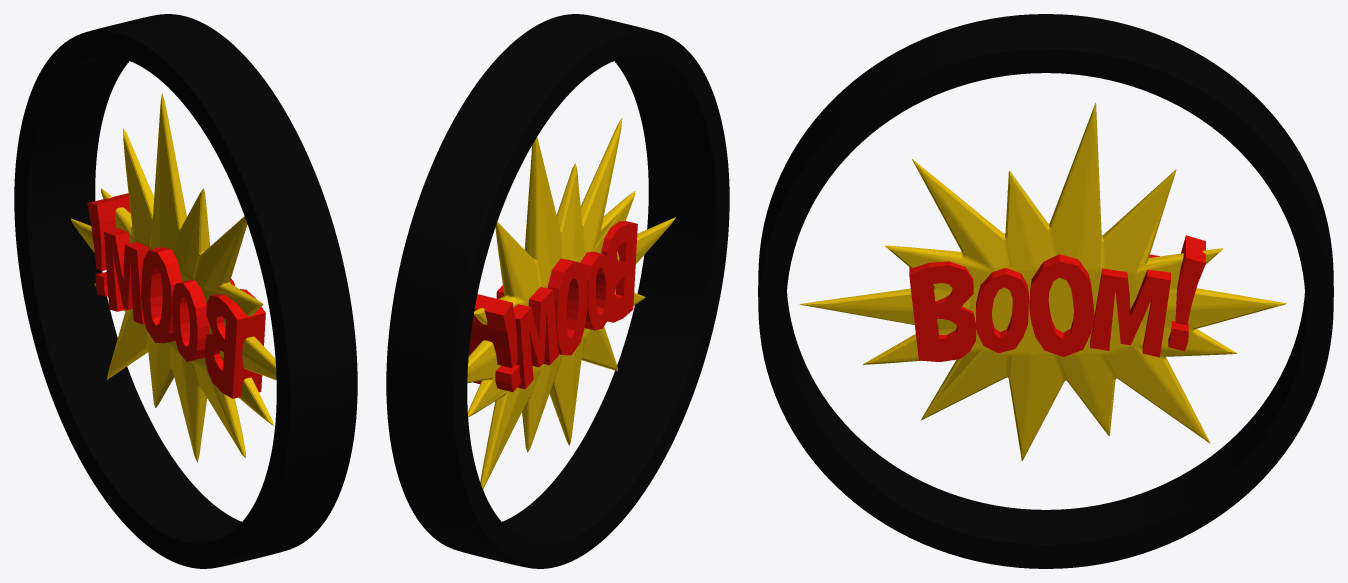
The model's file is _oom2.fbx.
3 views of the same model, side by side, from view 1: azimuth 30°, elevation 25°; view 2: azimuth 150°, elevation 25°; view 3: azimuth 270°, elevation 25° (orthographic). The views are drawn at different scales.
Visible parts, largest first — view 1: Cylinder.001, Cube.001, Cube; view 2: Cylinder.001, Cube.001, Cube; view 3: Cylinder.001, Cube.001, Cube.
Part boxes in pixels (x1=…): Cylinder.001: x1=14, y1=14, x2=357, y2=568; Cube.001: x1=70, y1=93, x2=276, y2=462; Cube: x1=87, y1=193, x2=265, y2=398; Cylinder.001: x1=386, y1=14, x2=729, y2=568; Cube.001: x1=467, y1=117, x2=675, y2=489; Cube: x1=468, y1=221, x2=637, y2=391; Cylinder.001: x1=758, y1=14, x2=1333, y2=568; Cube.001: x1=799, y1=103, x2=1286, y2=460; Cube: x1=909, y1=235, x2=1205, y2=361.
Bounding box in the file's own units: 28.83 × 201 × 201.
